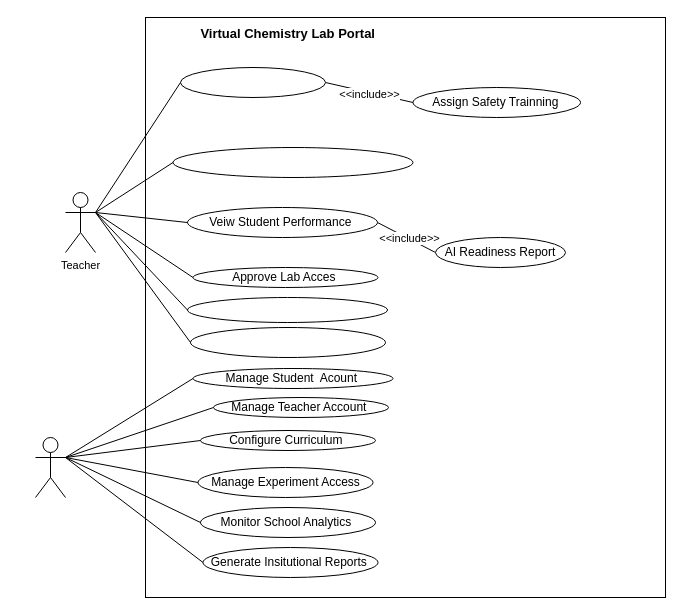
Image size: 683x615. Some labels were removed from this diagram. The shapes that lost their labels are listed below. From the top down, each one's box as (x1, y1, x2, y2) in pixels, then its label:
(180, 66, 326, 98): Assign Eperiments
(172, 146, 413, 178): Monitor Experiment Sessions
(186, 296, 388, 322): Over Ride AI Recomendation
(190, 326, 386, 358): Generate Class Report
(34, 436, 66, 498): School Admin
